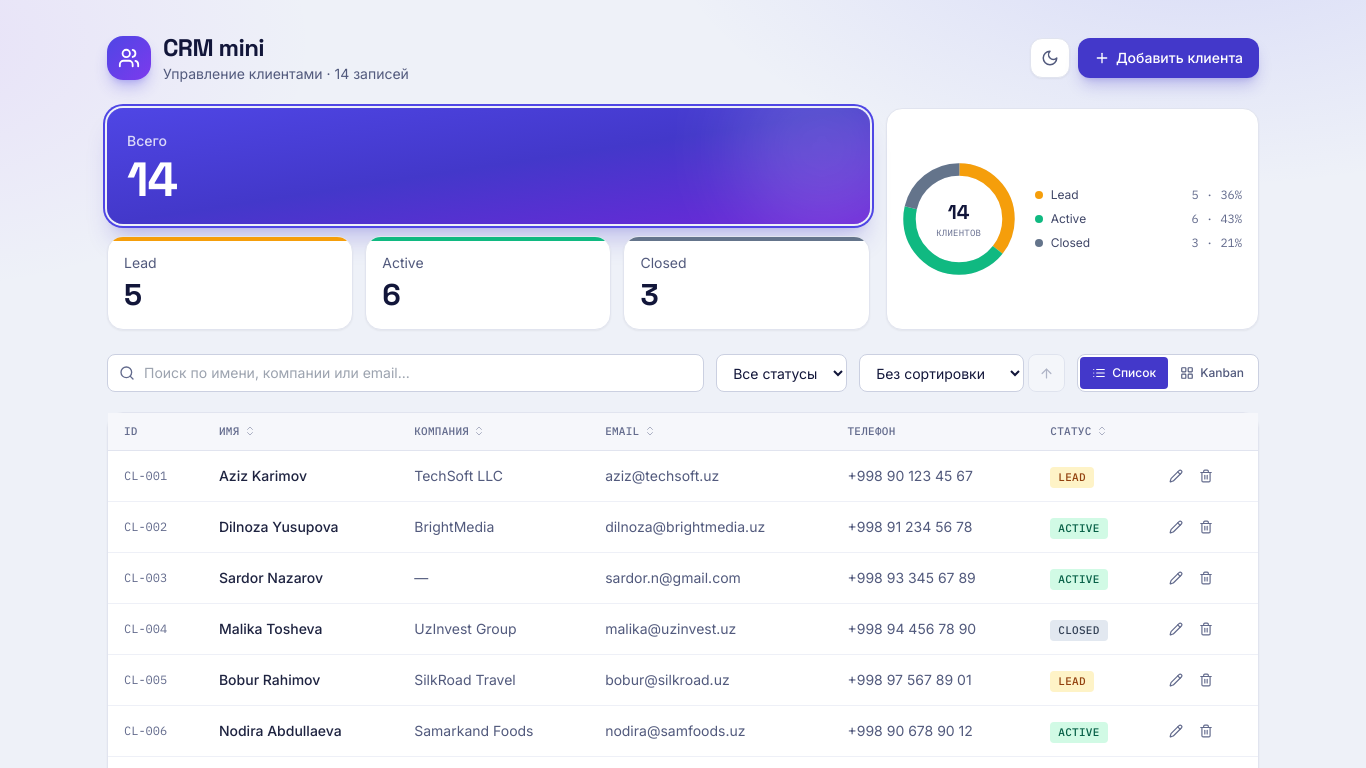
Test case: delete › asks for confirmation with focus on the safe action, and can be cancelled
Click the button named "Удалить Aziz Karimov": (1206, 476) [1193, 462, 1219, 488]
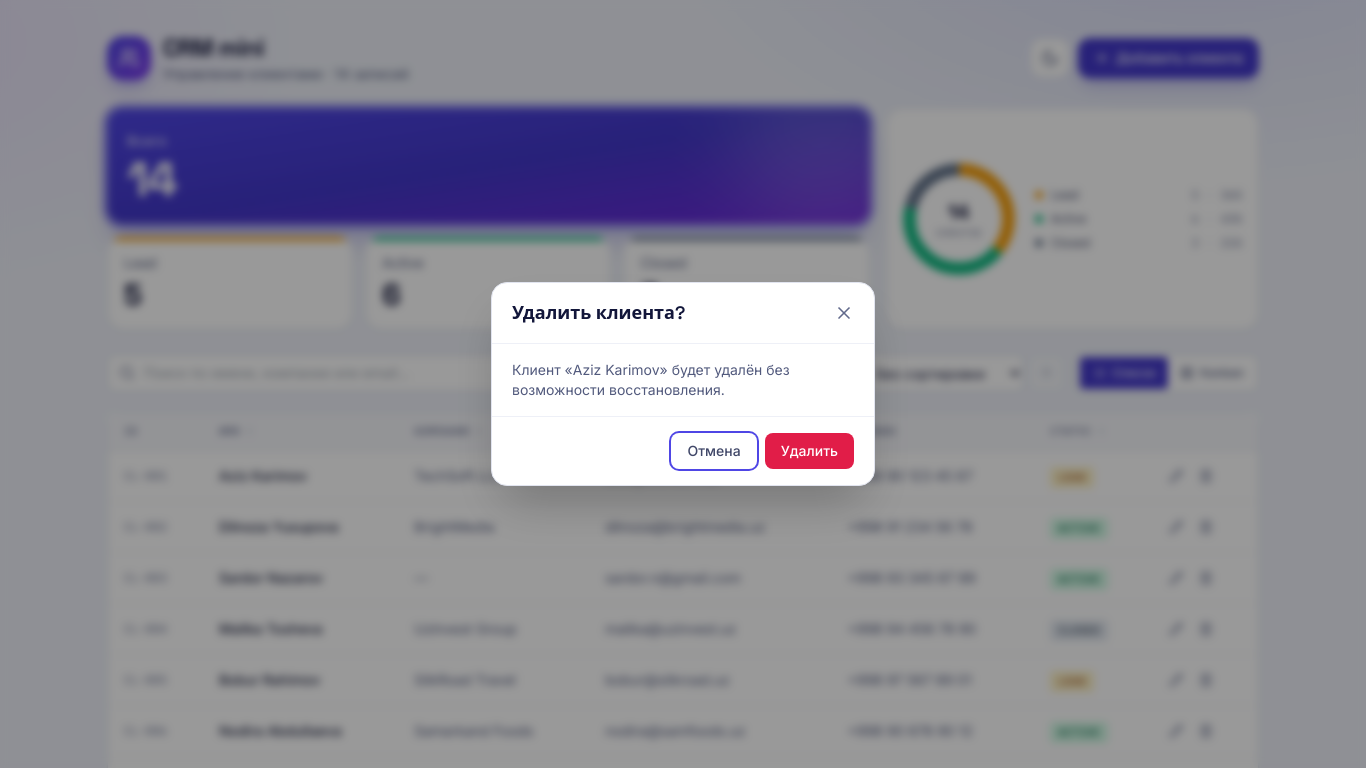
Press Escape
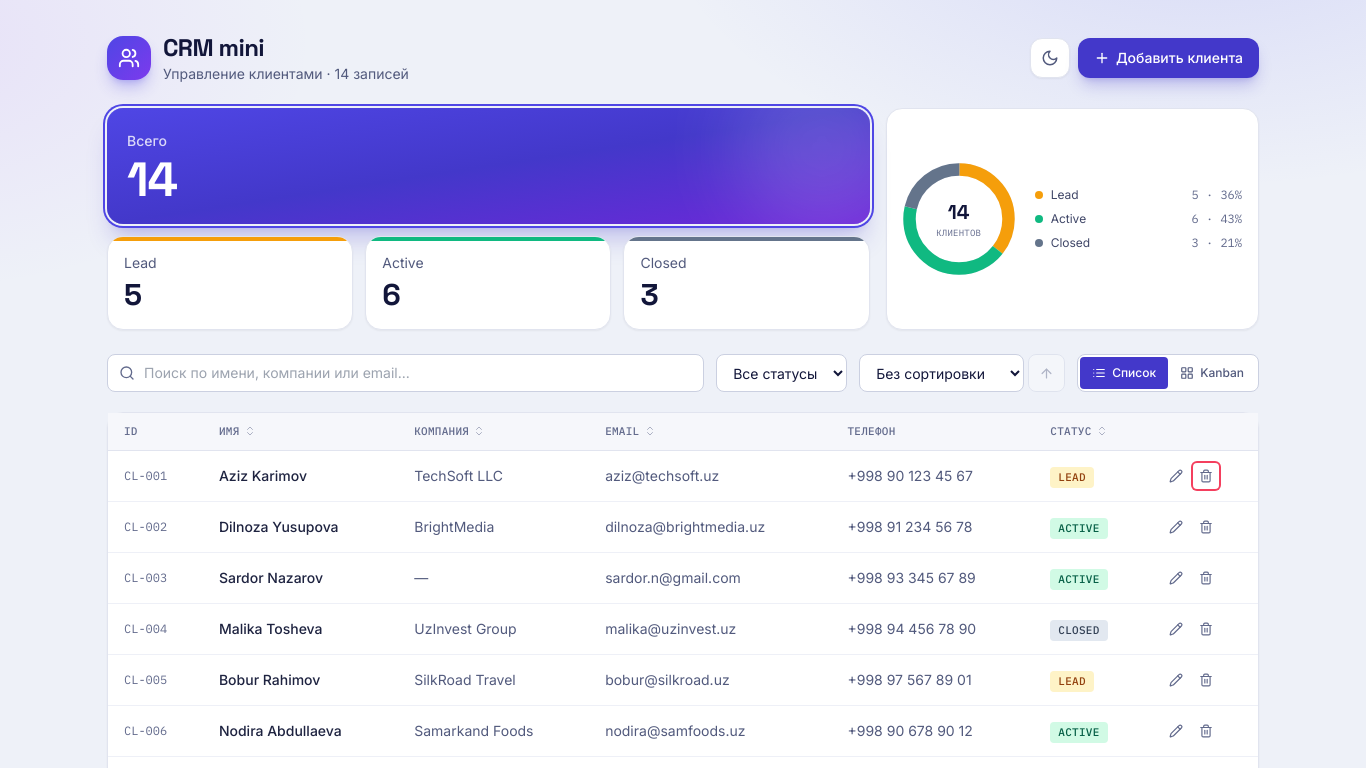
Expected: the text "Управление клиентами · 14 записей" is shown, [163, 64, 409, 84]
Now the dialog is gone
